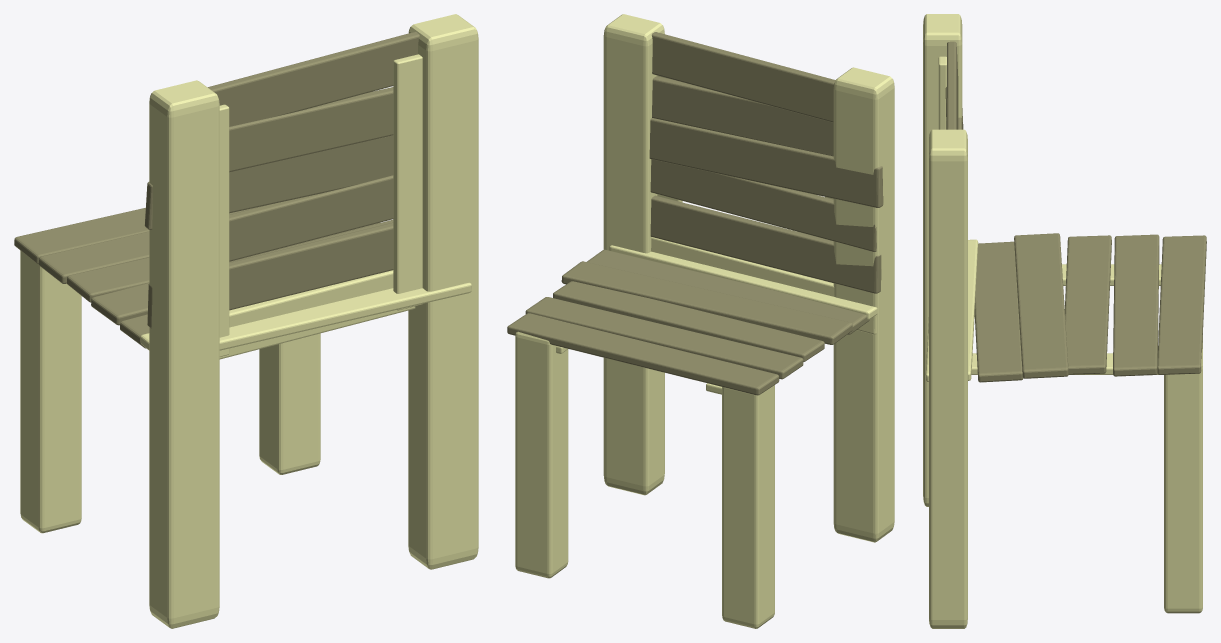
Rendered from Chair.fbx.
3 views of the same model, side by side, from view 1: azimuth 30°, elevation 25°; view 2: azimuth 150°, elevation 25°; view 3: azimuth 270°, elevation 25° (orthographic). The views are drawn at different scales.
Visible parts, largest first — view 1: Chair; view 2: Chair; view 3: Chair.
Boxes of the visible parts, x1,y1,x2,y2 form: Chair: (14, 14, 478, 628); Chair: (507, 14, 894, 628); Chair: (923, 14, 1206, 628).
Size of the model in its own units: 69.82 by 112 by 59.87.
